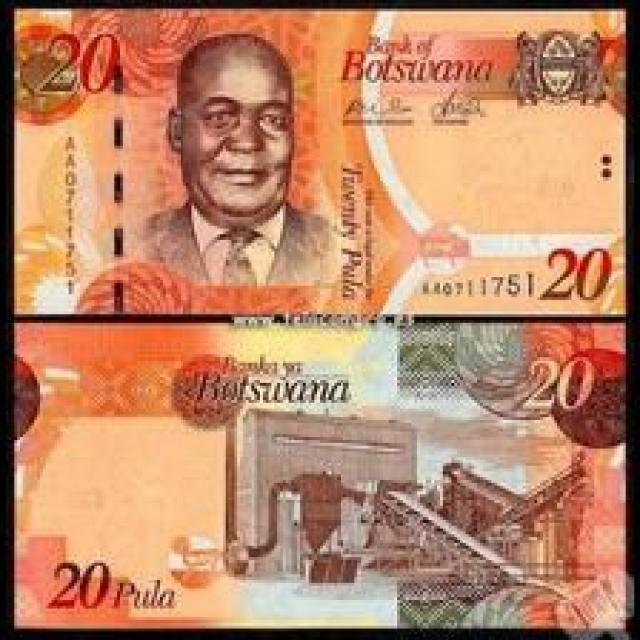banknote: (15, 323, 619, 627), (13, 10, 625, 310)
